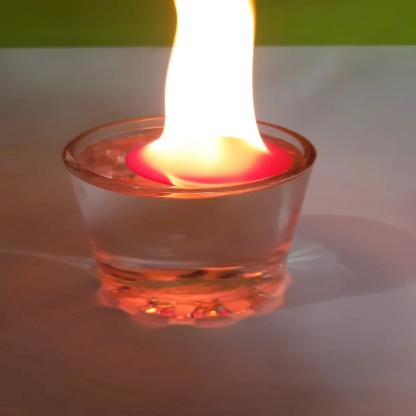Fire: (154, 0, 269, 184)
